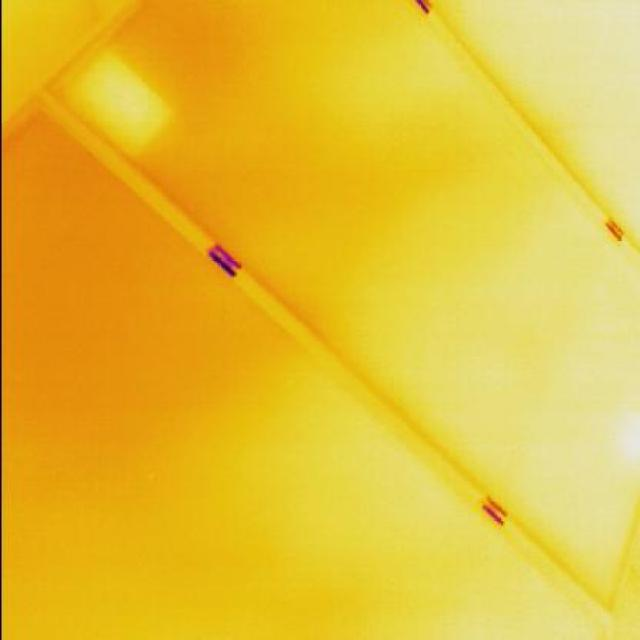hotspot: (51, 48, 174, 163)
